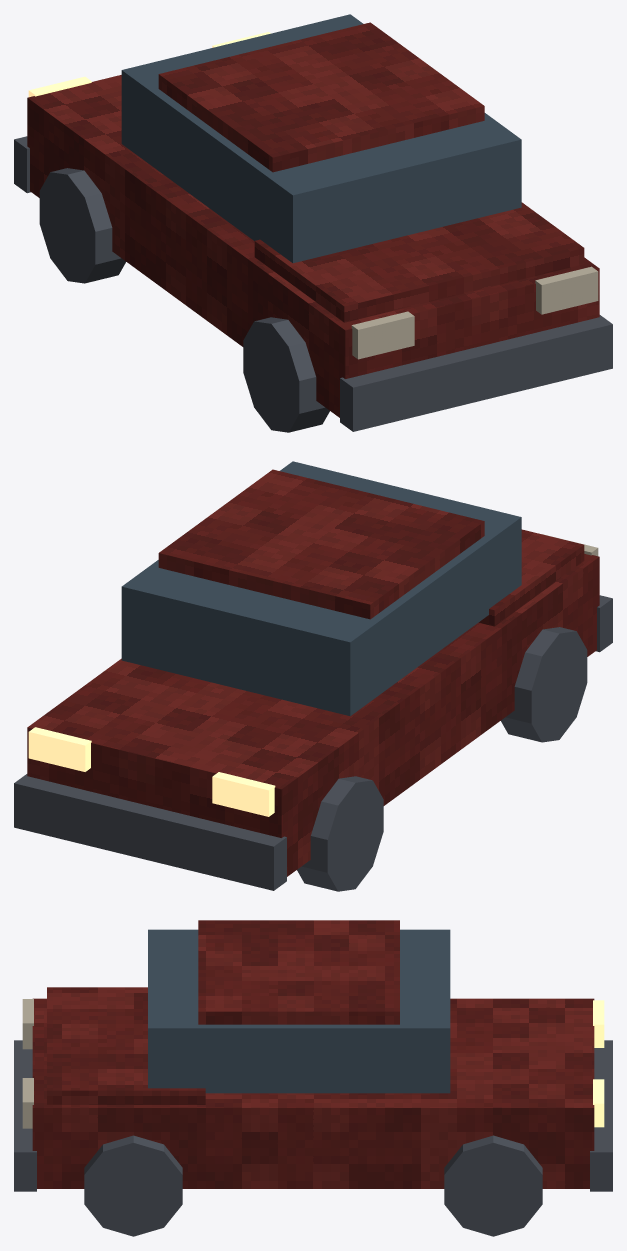
The model's file is ENV_C_CompactCar_Red.fbx.
3 views of the same model, one above another, from view 1: azimuth 30°, elevation 25°; view 2: azimuth 150°, elevation 25°; view 3: azimuth 270°, elevation 25° (orthographic). The views are drawn at different scales.
Parts seen in each view (by area): view 1: ENV_C_CompactCar_Red; view 2: ENV_C_CompactCar_Red; view 3: ENV_C_CompactCar_Red.
Part boxes in pixels (x1,y1,x2,y2): ENV_C_CompactCar_Red: [14, 14, 612, 432]; ENV_C_CompactCar_Red: [14, 461, 612, 891]; ENV_C_CompactCar_Red: [14, 920, 612, 1236].
Size of the model in its own units: 204 by 160 by 416.
Materials: 5 (1 with a texture image).
